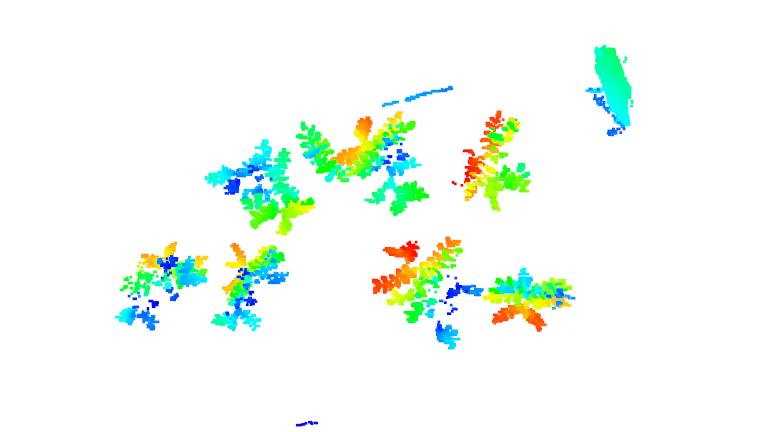chickpea: (293, 110, 431, 218), (369, 234, 485, 355), (202, 137, 316, 236), (115, 240, 209, 331), (450, 108, 538, 205), (210, 241, 291, 330), (488, 266, 579, 333)
